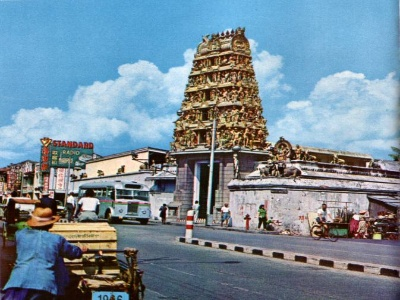gopura: (168, 28, 273, 144)
